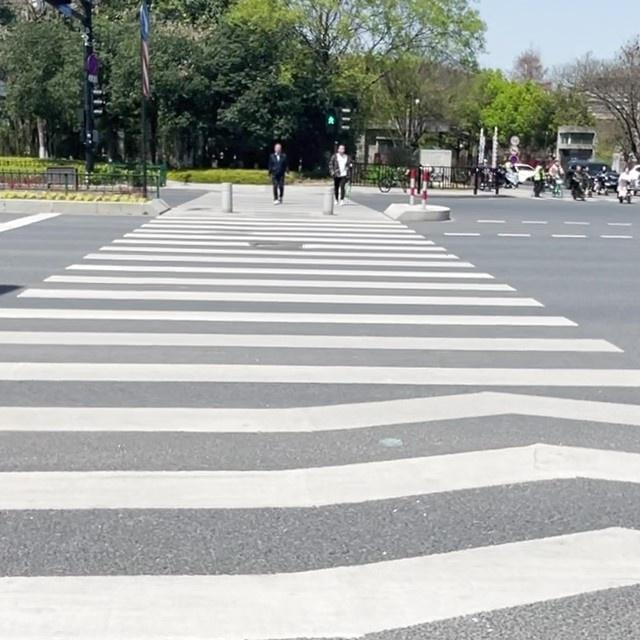curb: (0, 196, 172, 216), (386, 203, 450, 221)
